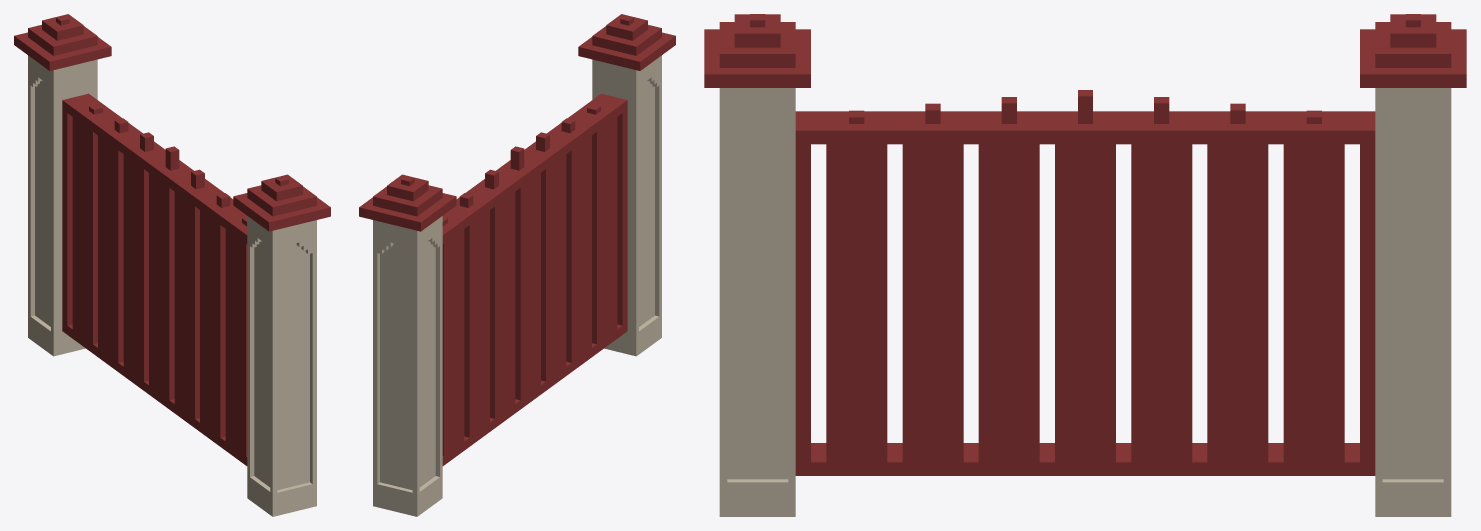
Rendered from Background_C_wall_02.FBX.
3 renders of one model, left to right at view 1: azimuth 30°, elevation 25°; view 2: azimuth 150°, elevation 25°; view 3: azimuth 270°, elevation 25°, orthographic. The views are drawn at different scales.
Visible parts, largest first — view 1: Background_C-1; view 2: Background_C-1; view 3: Background_C-1.
Part boxes in pixels (bbox=[...]): Background_C-1: bbox=[14, 14, 330, 516]; Background_C-1: bbox=[359, 14, 675, 516]; Background_C-1: bbox=[704, 14, 1466, 516].
Bounding box in the file's own units: 1.4 × 7 × 10.
Materials: 1 (1 with a texture image).
